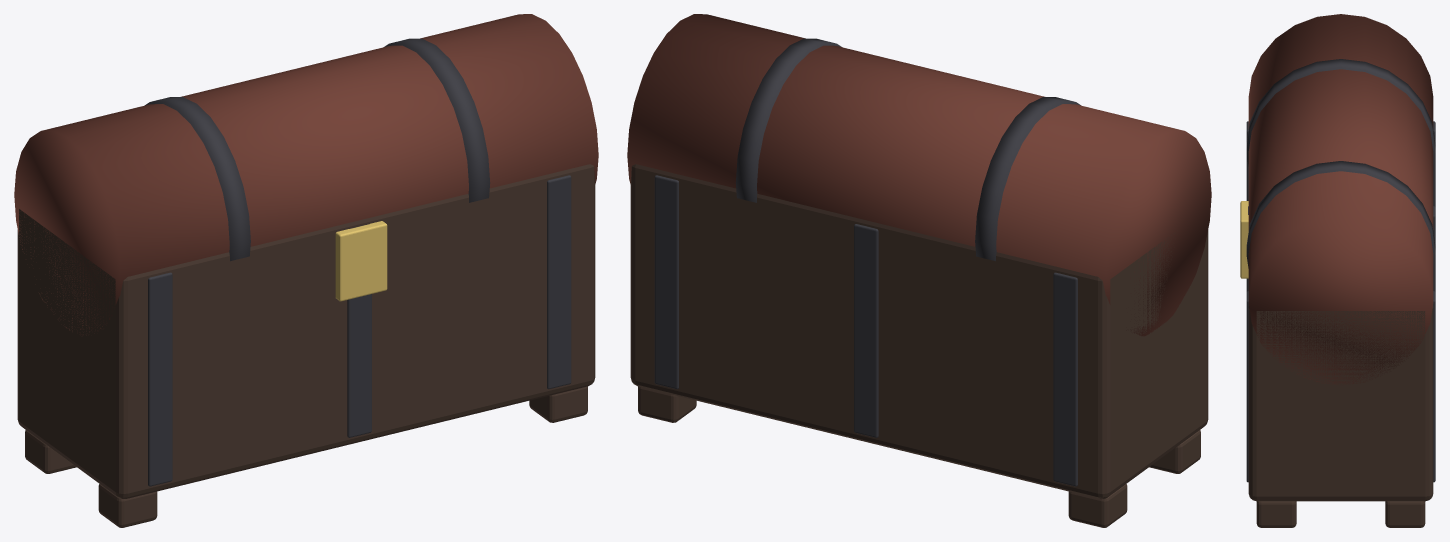
Rendered from chest.glb.
The picture shows the model from 3 angles, left to right: view 1: azimuth 30°, elevation 25°; view 2: azimuth 150°, elevation 25°; view 3: azimuth 270°, elevation 25°; orthographic projection. The views are drawn at different scales.
Parts seen in each view (by area): view 1: GD_chest; view 2: GD_chest; view 3: GD_chest.
Boxes of the visible parts, x1=… form: GD_chest: x1=14, y1=14, x2=598, y2=527; GD_chest: x1=627, y1=14, x2=1211, y2=527; GD_chest: x1=1240, y1=14, x2=1435, y2=527.
Bounding box in the file's own units: 1.2 × 0.865 × 0.485.
